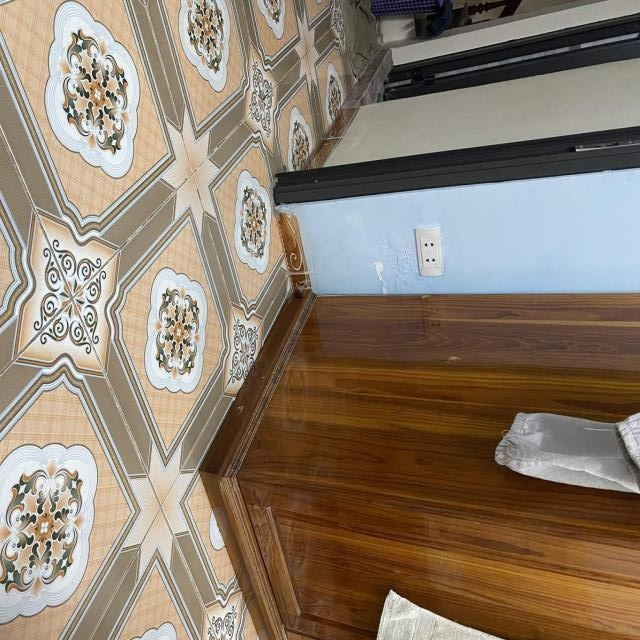outlet: (415, 226, 445, 276)
